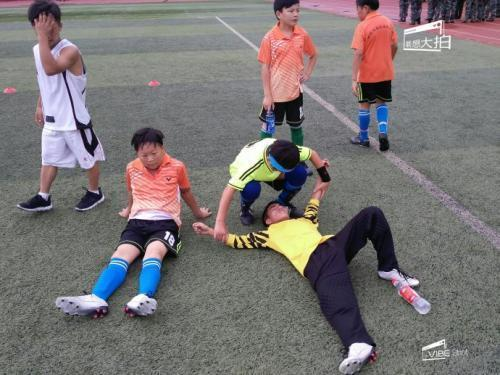Fall-Detected: (212, 187, 441, 371)
